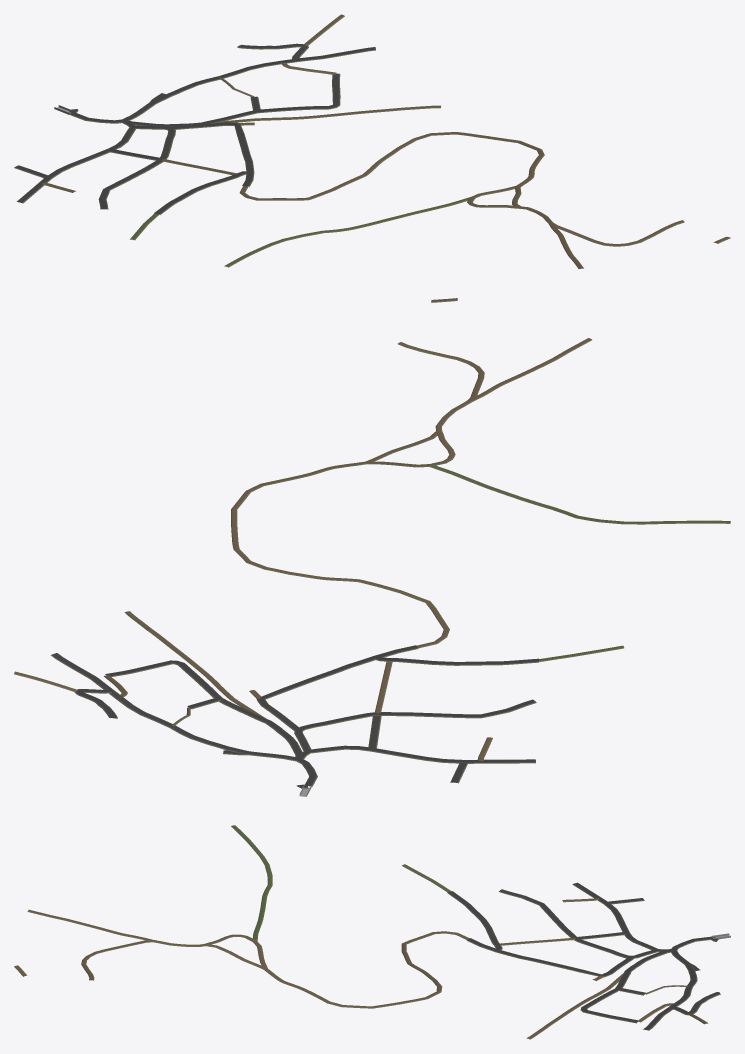
The picture shows the model from 3 angles, top to bottom: view 1: azimuth 30°, elevation 25°; view 2: azimuth 150°, elevation 25°; view 3: azimuth 270°, elevation 25°; orthographic projection. The views are drawn at different scales.
Parts seen in each view (by area): view 1: roads; view 2: roads; view 3: roads.
Boxes of the visible parts, <box> form: roads: <box>14,14,730,268</box>; roads: <box>14,298,730,788</box>; roads: <box>14,825,720,1039</box>.
Size of the model in its own units: 425 by 96.1 by 728.
